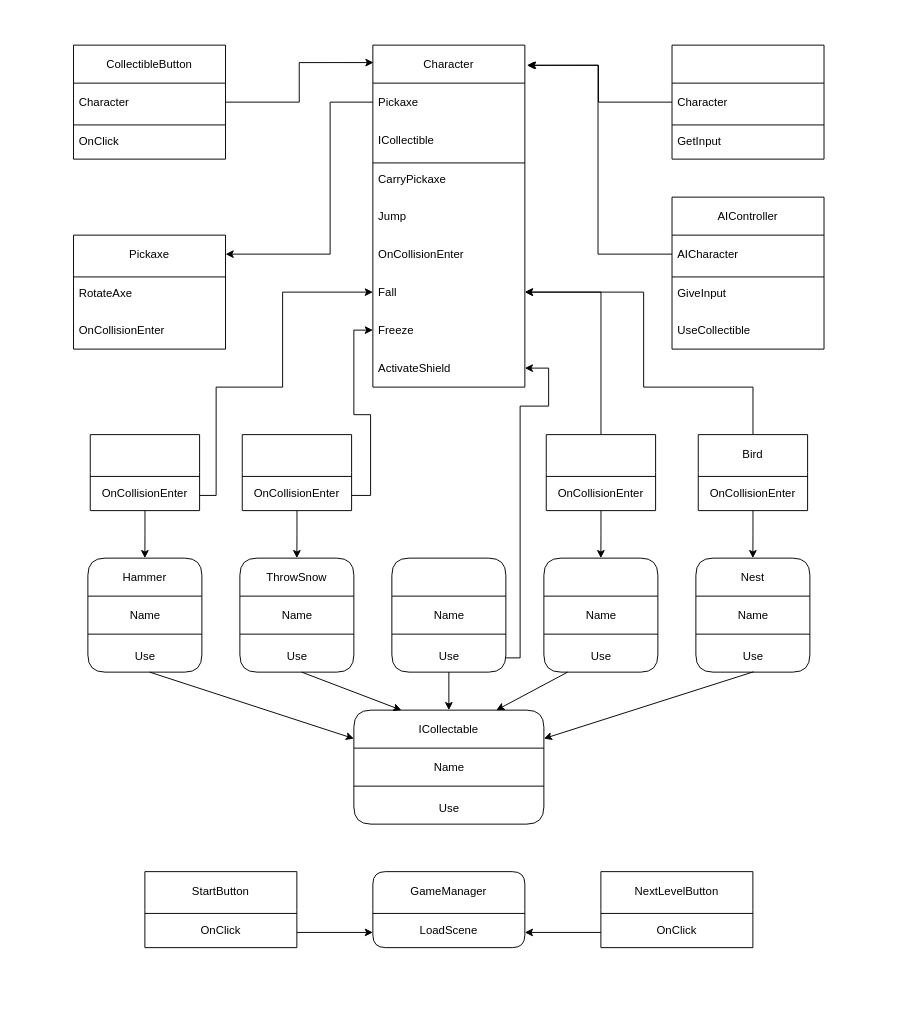
Some shapes in this 897 by 1030 pixel diagram are drawn without their labels. Here are the shapes that lost their labels. From the top down, the box of each, then its label:
(671, 44, 824, 159): GameController
(89, 434, 200, 511): Brick
(241, 434, 352, 511): SnowBall
(545, 434, 656, 511): Particle
(391, 557, 506, 672): Shield
(543, 557, 658, 672): Bomb
